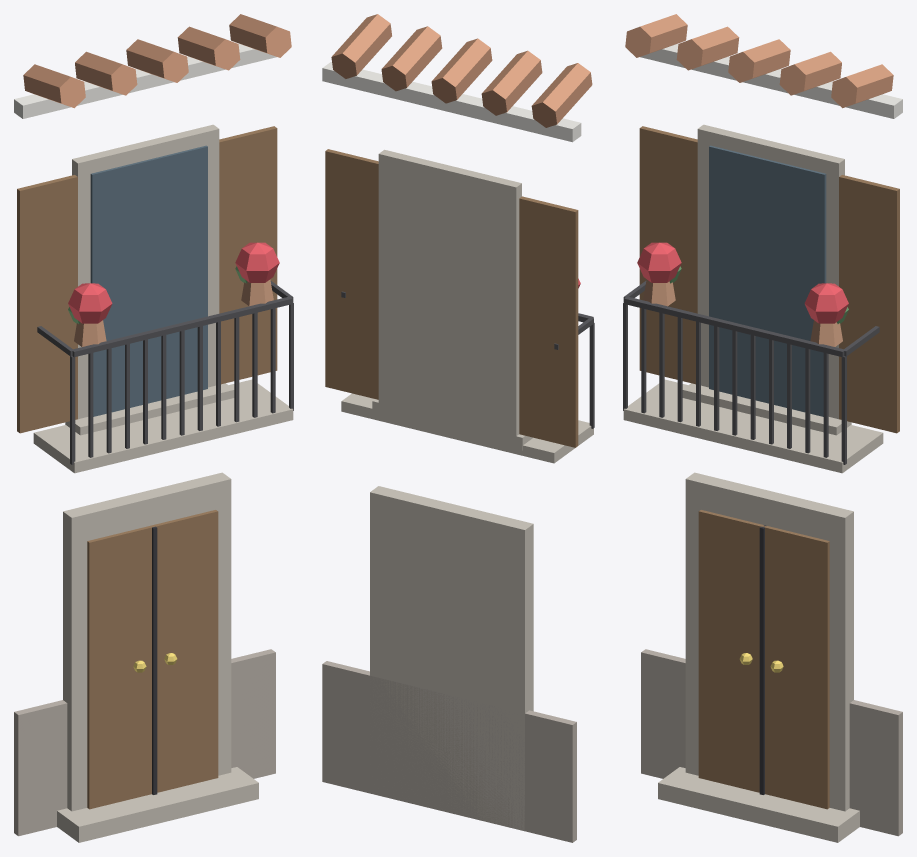
The model's file is VJ_Fachada_A.fbx.
The picture shows the model from 3 angles, left to right: view 1: azimuth 30°, elevation 25°; view 2: azimuth 150°, elevation 25°; view 3: azimuth 330°, elevation 25°; orthographic projection. The views are drawn at different scales.
Parts seen in each view (by area): view 1: VJ_Fachada_A; view 2: VJ_Fachada_A; view 3: VJ_Fachada_A.
Boxes of the visible parts, x1,y1,x2,y2 form: VJ_Fachada_A: (14, 14, 293, 842); VJ_Fachada_A: (322, 14, 594, 842); VJ_Fachada_A: (623, 14, 902, 842).
Size of the model in its own units: 2 by 5.74 by 0.6374.
